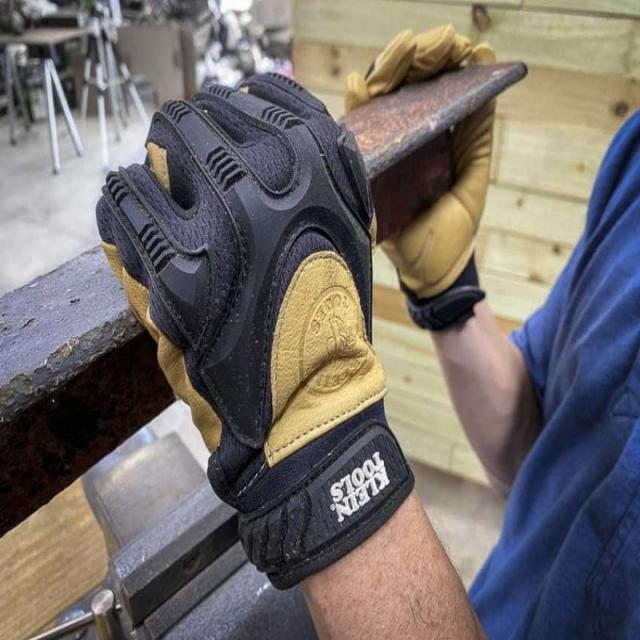gloves: (96, 72, 414, 590), (336, 15, 491, 324)
